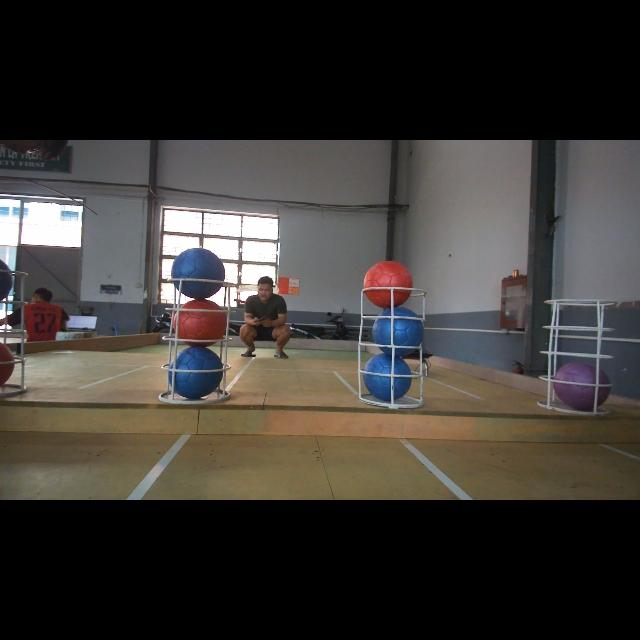B: (168, 346, 224, 399), (170, 248, 226, 298), (372, 308, 424, 356), (364, 354, 412, 402)
R: (172, 299, 228, 347), (364, 260, 412, 306)
